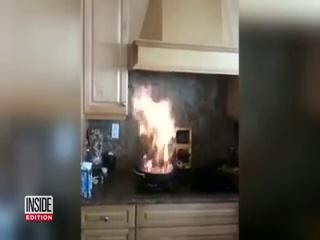Fire: (137, 92, 182, 176)
